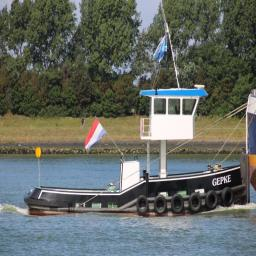tugboat: (24, 83, 252, 223)
